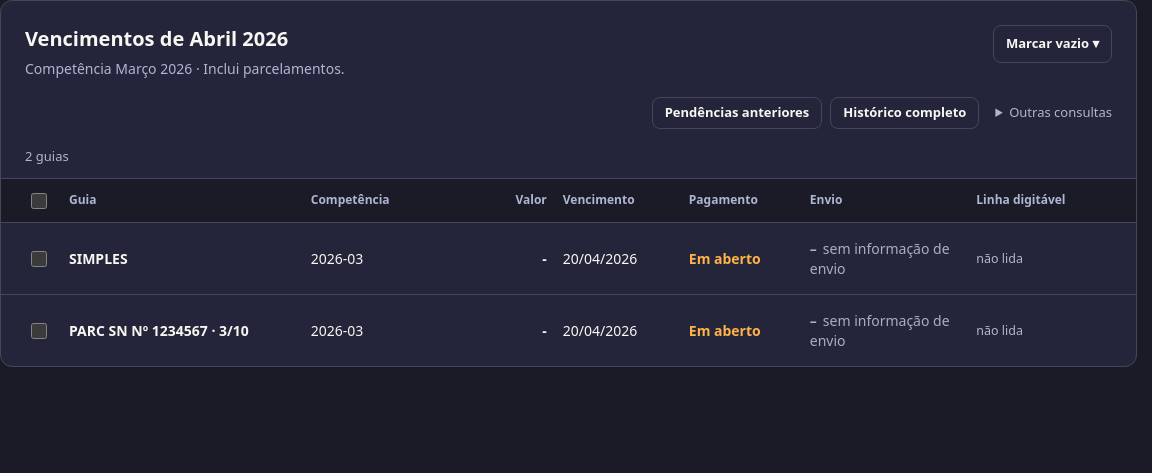
it: envio das guias selecionadas › envia as disponíveis sem bloquear o lote por {"emailStatus":"SENDING"}
The width and height of the screenshot is (1152, 473).
Click the button "Histórico completo" at (905, 113), box [830,97,979,129]
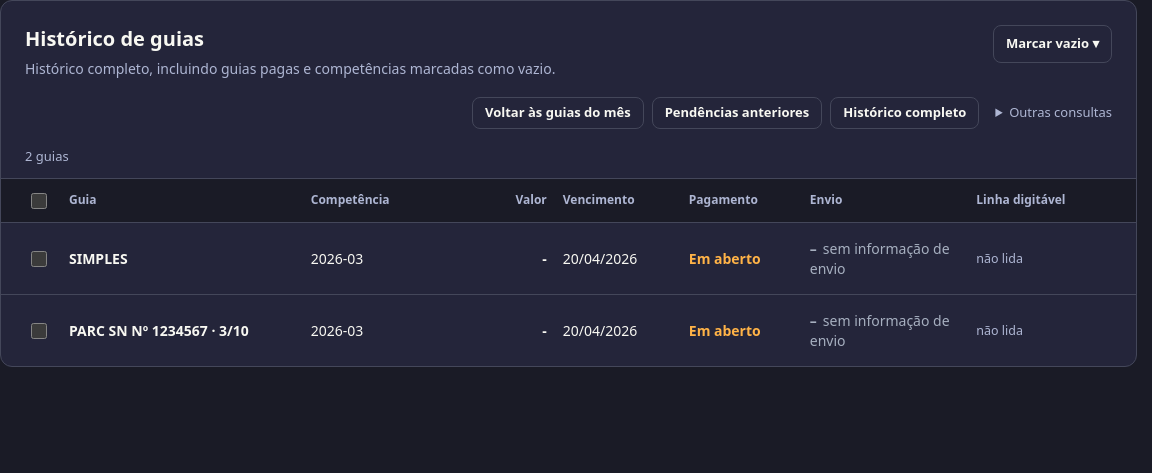
Click the checkbox named "Selecionar todas" at (39, 200), box [31,192,47,208]
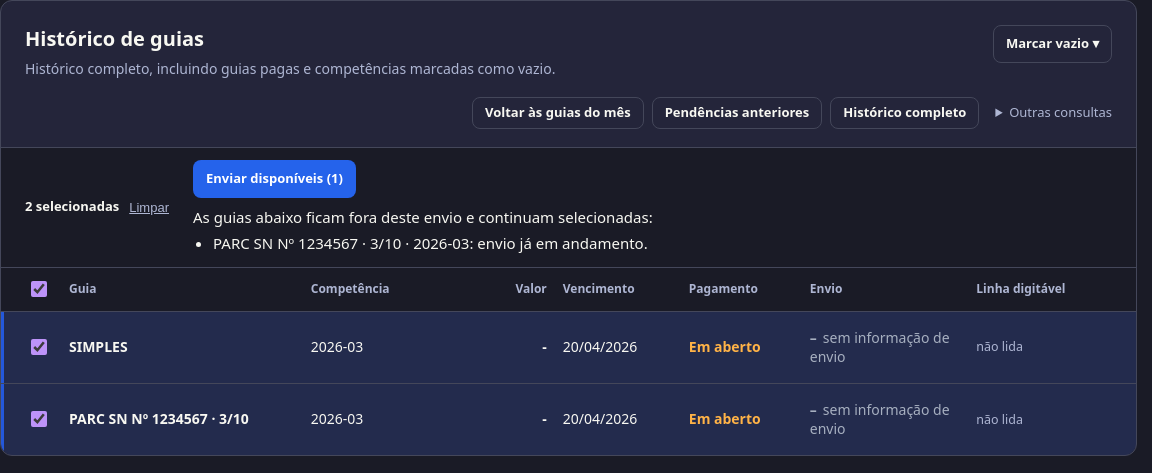
Check: the list item "PARC SN Nº 1234567 · 3/10 · 2026-03: envio já em andamento." is shown, box [213,233,648,253]
Check: the button "Enviar disponíveis (1)" is enabled
Click the button "Enviar disponíveis (1)" at (274, 178), box [193,160,356,198]
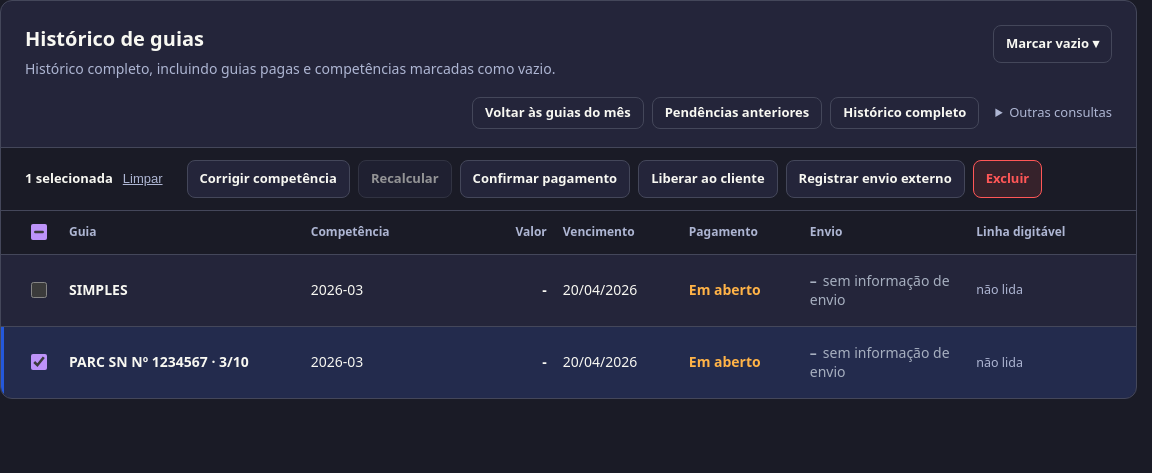
Check: the checkbox named "Selecionar guia" is checked, box [31,354,47,370]
Check: the checkbox named "Selecionar guia" is not checked, box [31,282,47,298]
